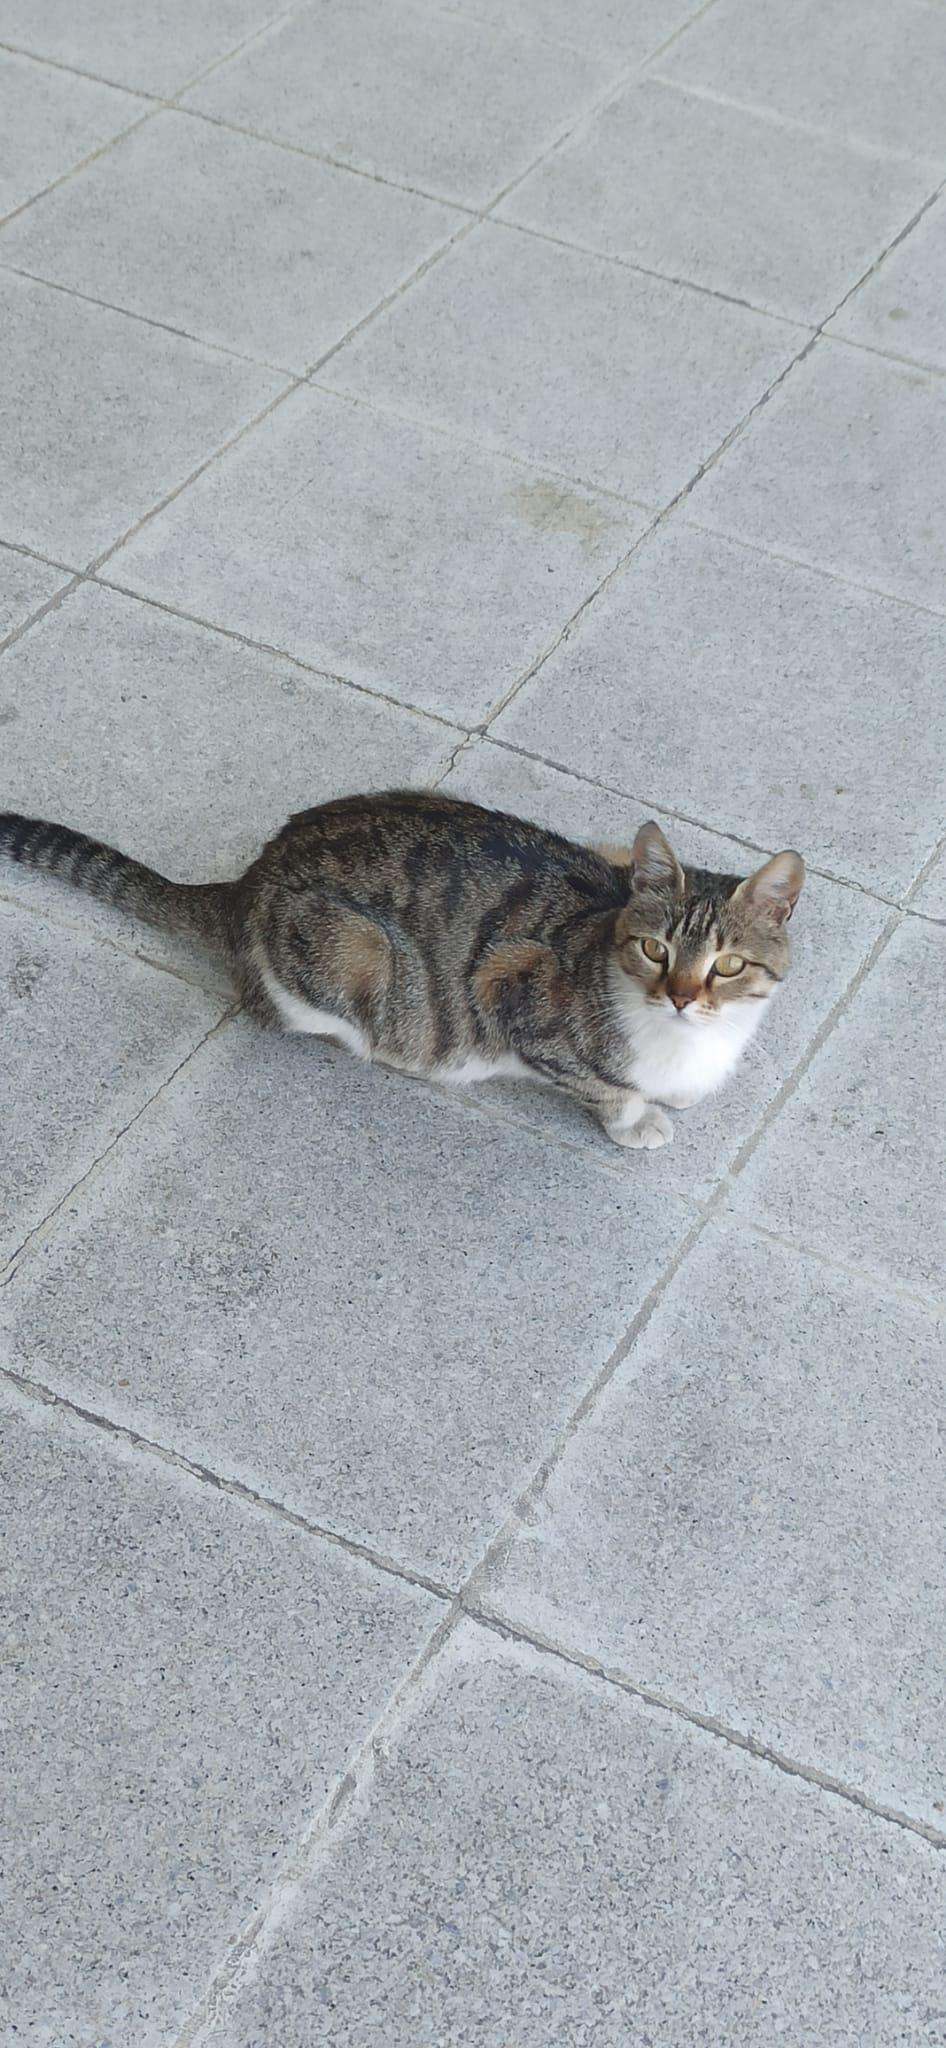kedo: (0, 788, 804, 1151)
